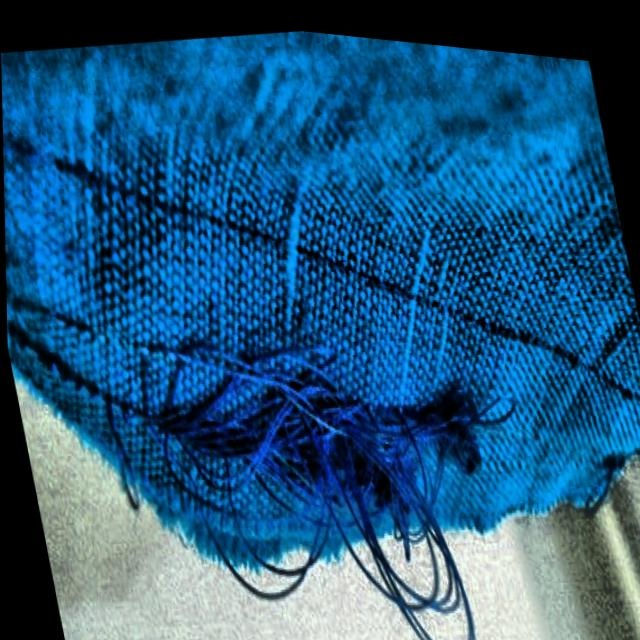Stitch: (51, 233, 563, 639)
